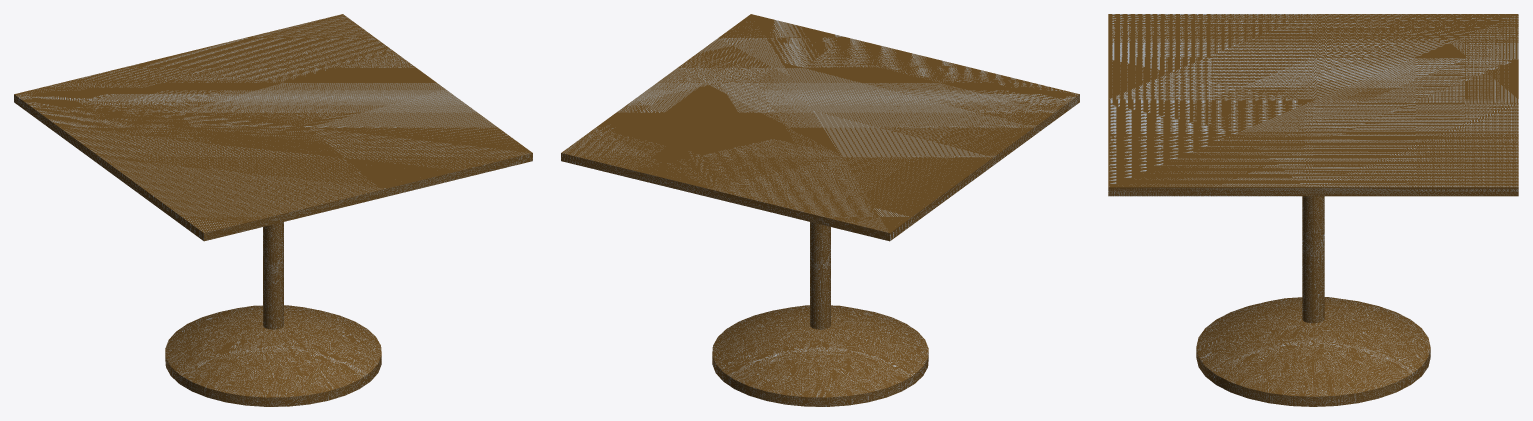
Rendered from table_cafe.dae.
3 views of the same model, side by side, from view 1: azimuth 30°, elevation 25°; view 2: azimuth 150°, elevation 25°; view 3: azimuth 270°, elevation 25° (orthographic). The views are drawn at different scales.
Parts seen in each view (by area): view 1: site-table-brp_bison-cafe_collection-pt42stsq_cf30cp-fm_with (×3); view 2: site-table-brp_bison-cafe_collection-pt42stsq_cf30cp-fm_with (×3); view 3: site-table-brp_bison-cafe_collection-pt42stsq_cf30cp-fm_with (×3).
Part boxes in pixels (box(x1,y1,x2,y2)): site-table-brp_bison-cafe_collection-pt42stsq_cf30cp-fm_with (×3): box(14, 14, 532, 406); site-table-brp_bison-cafe_collection-pt42stsq_cf30cp-fm_with (×3): box(561, 14, 1079, 406); site-table-brp_bison-cafe_collection-pt42stsq_cf30cp-fm_with (×3): box(1108, 14, 1518, 406).
Bounding box in the file's own units: 42 × 42 × 29.
